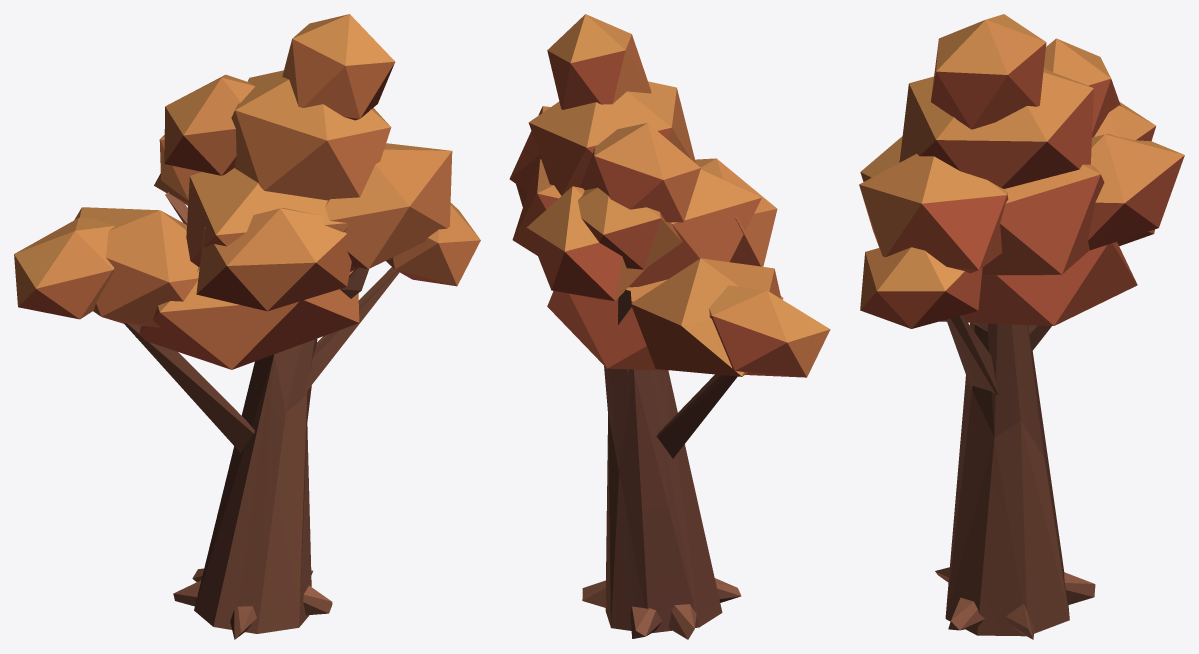
3 renders of one model, left to right at view 1: azimuth 30°, elevation 25°; view 2: azimuth 150°, elevation 25°; view 3: azimuth 270°, elevation 25°, orthographic. The views are drawn at different scales.
Visible parts, largest first — view 1: WK_RegularTree_EmberMaple_LOD1_Balanced; view 2: WK_RegularTree_EmberMaple_LOD1_Balanced; view 3: WK_RegularTree_EmberMaple_LOD1_Balanced.
Boxes of the visible parts, left/top/right/bottom form: WK_RegularTree_EmberMaple_LOD1_Balanced: left=14, top=14, right=480, bottom=639; WK_RegularTree_EmberMaple_LOD1_Balanced: left=509, top=14, right=830, bottom=639; WK_RegularTree_EmberMaple_LOD1_Balanced: left=859, top=14, right=1184, bottom=639.
Bounding box in the file's own units: 4.33 × 6.53 × 3.01.
